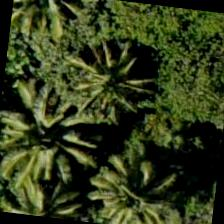Kelapa_Sawit: (54, 31, 154, 131), (0, 77, 88, 178), (88, 152, 188, 223), (0, 160, 84, 221), (8, 0, 91, 51)
